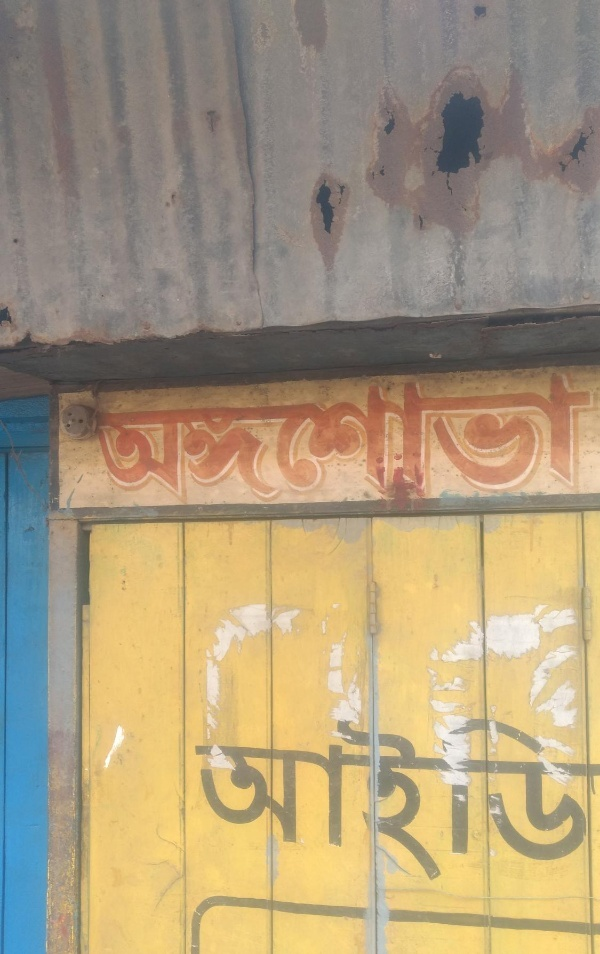text: (193, 707, 208, 892), (209, 707, 224, 892), (225, 707, 240, 892), (241, 707, 256, 892), (257, 707, 272, 892), (273, 707, 288, 892), (289, 707, 304, 892), (305, 707, 320, 892), (321, 707, 336, 892), (337, 707, 352, 892), (353, 707, 368, 892), (369, 707, 384, 892), (385, 707, 400, 892), (401, 707, 416, 892), (417, 707, 432, 892), (433, 707, 448, 892), (449, 707, 464, 892), (465, 707, 480, 892), (481, 707, 496, 892), (497, 707, 512, 892), (513, 707, 528, 892), (529, 707, 544, 892), (545, 707, 560, 892), (561, 707, 576, 892), (577, 707, 592, 892), (97, 361, 112, 504), (113, 361, 128, 504), (129, 361, 144, 504), (145, 361, 160, 504), (161, 361, 176, 504), (177, 361, 192, 504), (193, 361, 208, 504), (209, 361, 224, 504), (225, 361, 240, 504), (241, 361, 256, 504), (257, 361, 272, 504), (273, 361, 288, 504), (289, 361, 304, 504), (305, 361, 320, 504), (321, 361, 336, 504), (337, 361, 352, 504), (353, 361, 368, 504), (369, 361, 384, 504), (385, 361, 400, 504), (401, 361, 416, 504), (417, 361, 432, 504), (433, 361, 448, 504), (449, 361, 464, 504), (465, 361, 480, 504), (481, 361, 496, 504), (497, 361, 512, 504), (513, 361, 528, 504), (529, 361, 544, 504), (545, 361, 560, 504), (561, 361, 576, 504), (577, 361, 592, 504), (593, 707, 600, 892), (593, 361, 598, 504), (189, 707, 192, 892), (94, 361, 96, 504)
